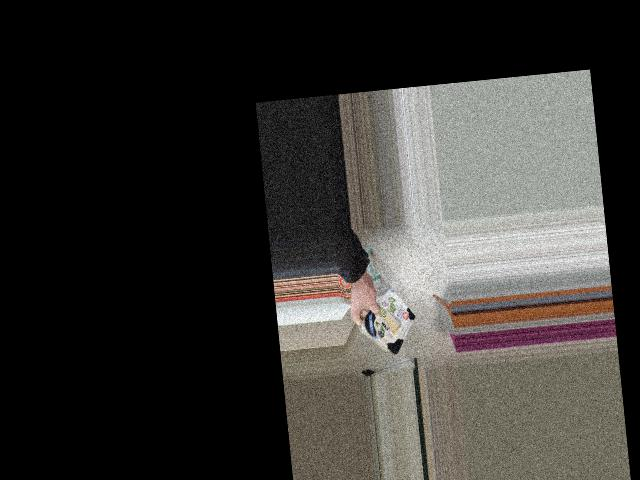cheese: (345, 296, 424, 356)
